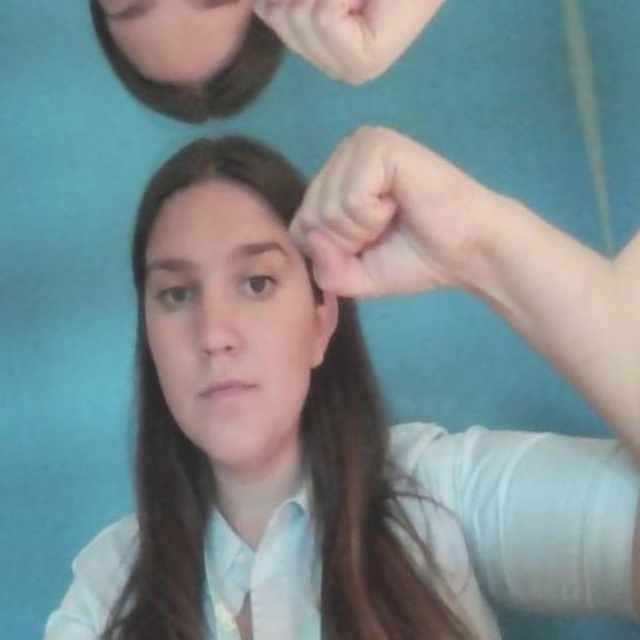Rock: (235, 0, 461, 90)
